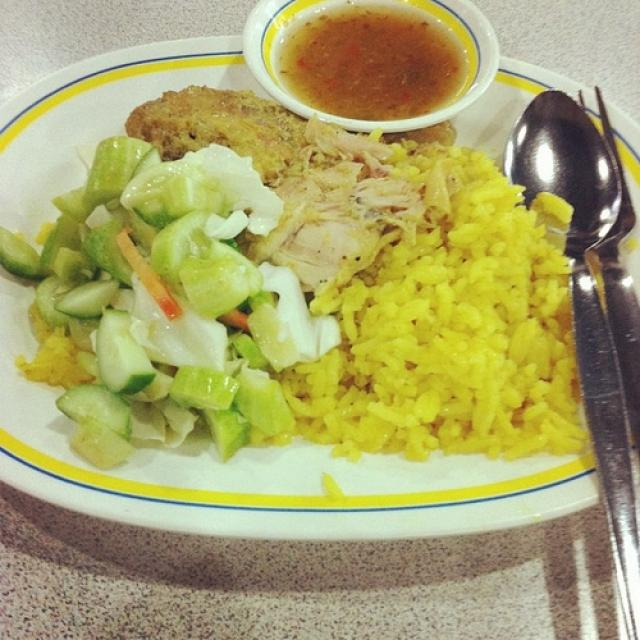米饭主食: (11, 23, 624, 562)
